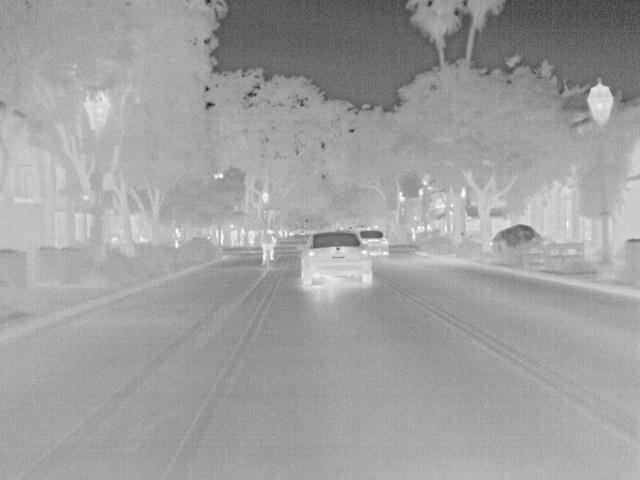car: (300, 227, 375, 287), (357, 229, 390, 257)
person: (261, 230, 282, 262), (170, 225, 183, 250), (228, 226, 242, 248), (244, 228, 258, 246), (236, 226, 248, 246)
